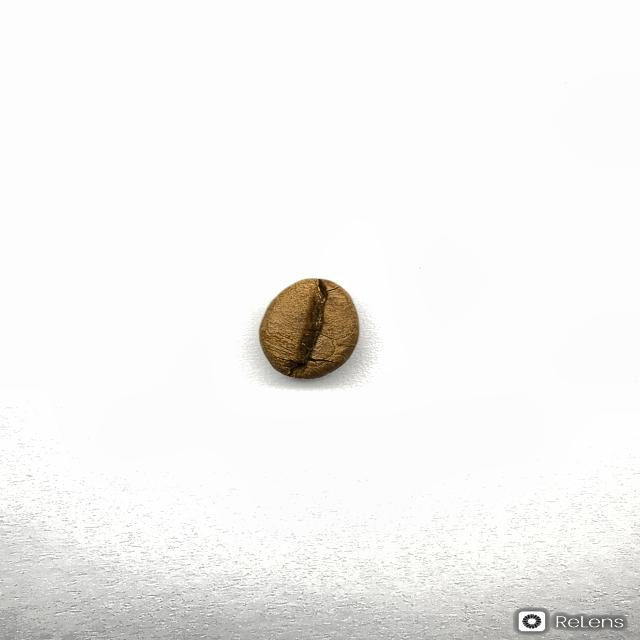Quaker: (258, 277, 360, 379)
